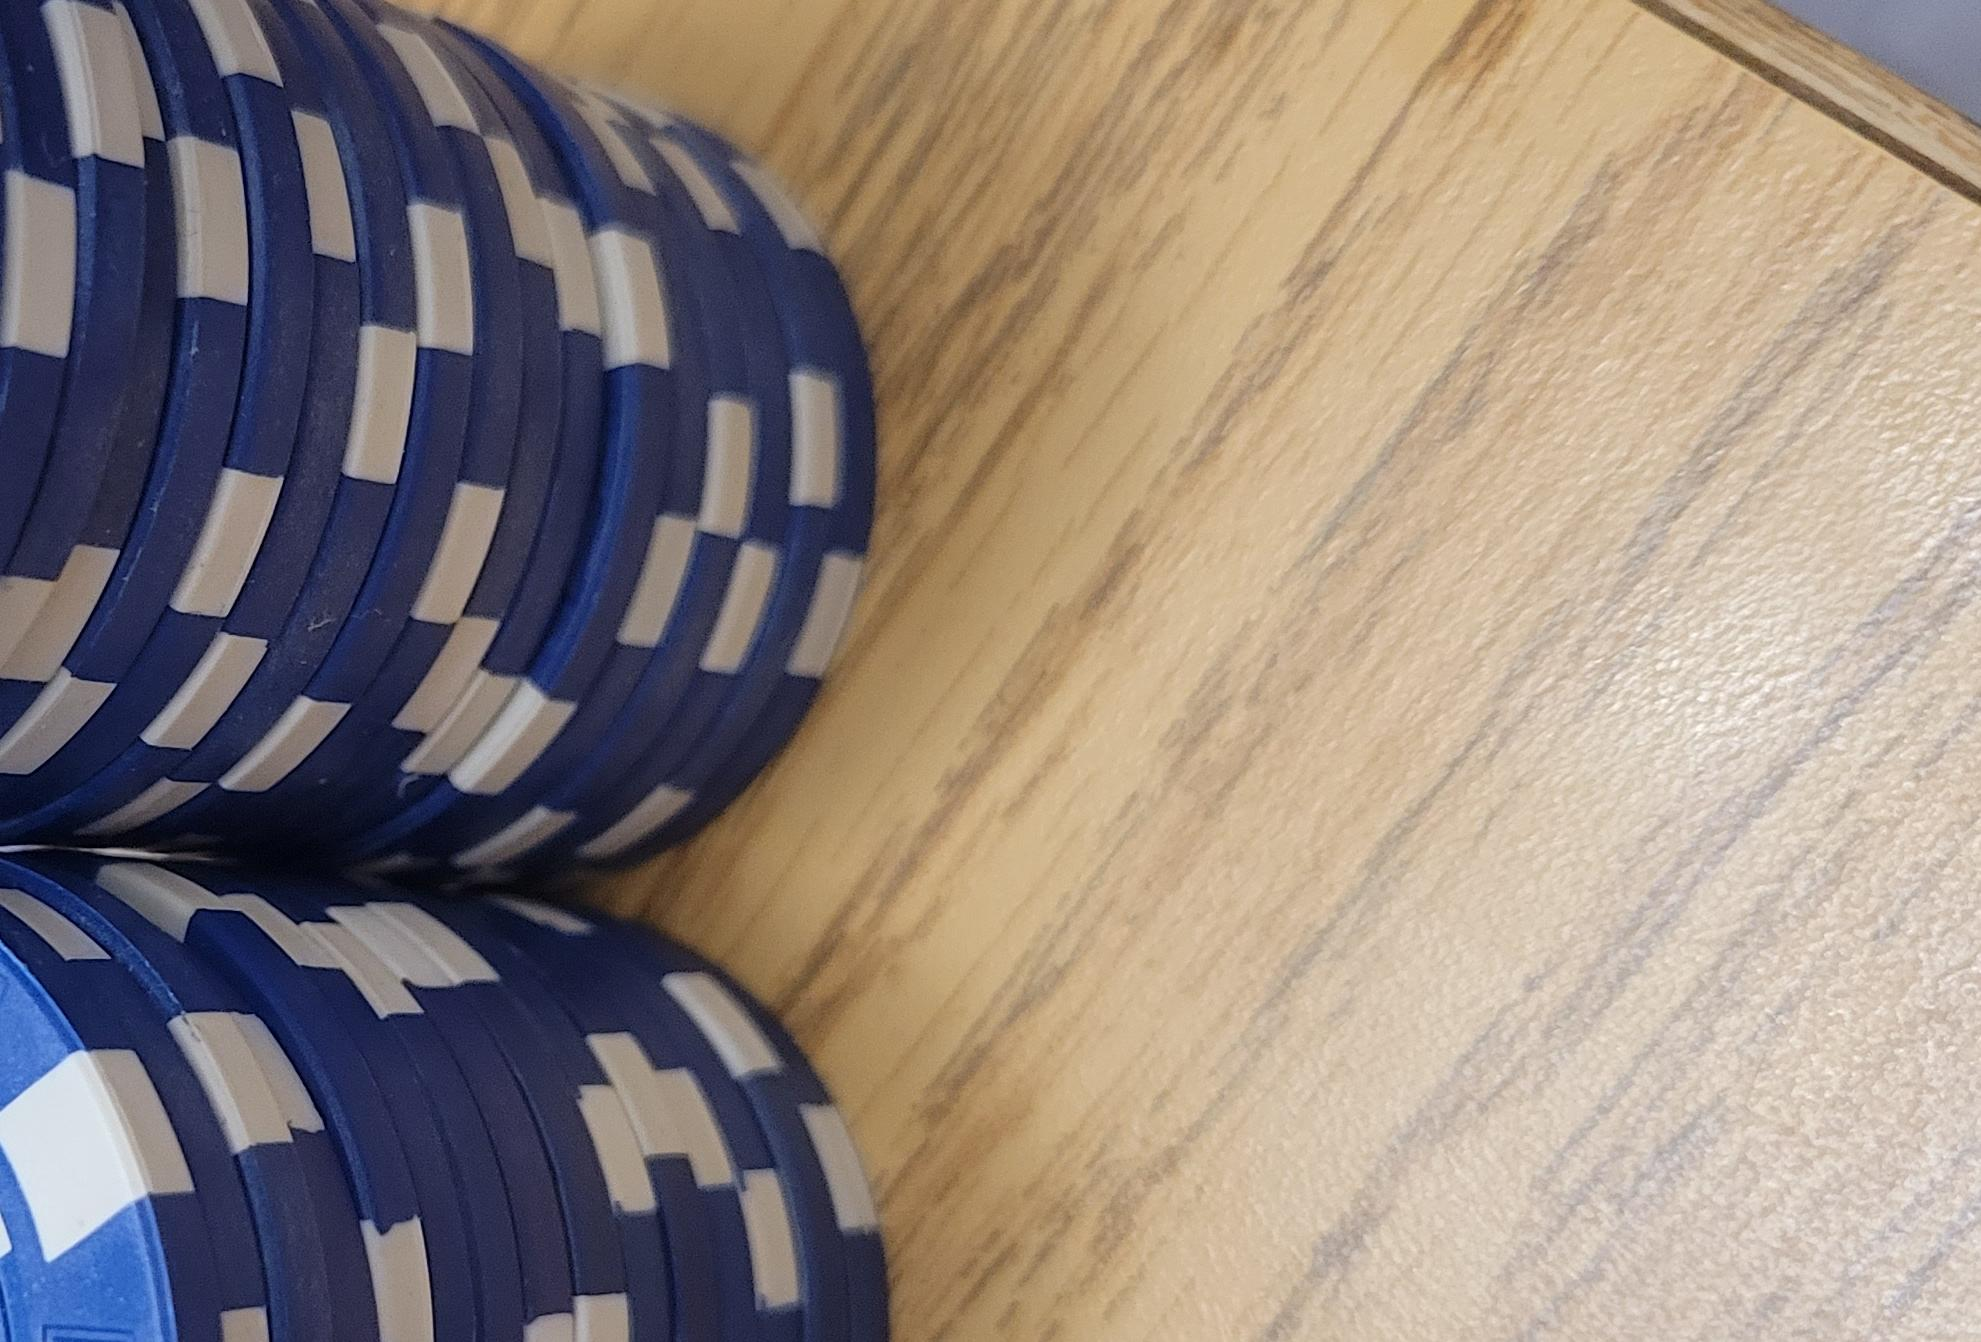Chip: (1, 217, 1038, 1342)
